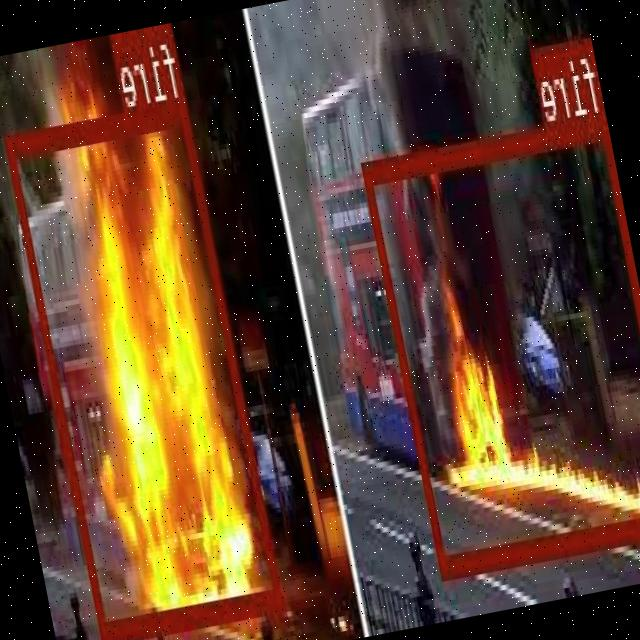fire: (6, 99, 285, 638), (361, 109, 640, 571)
